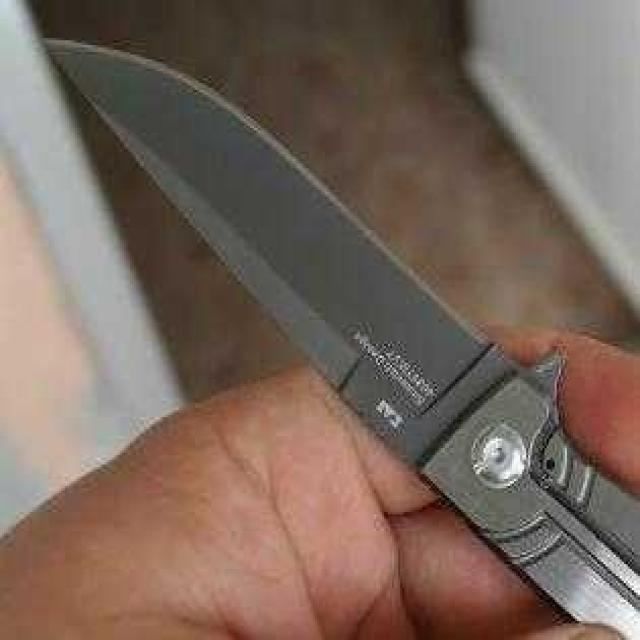Knife: (28, 26, 640, 640)
